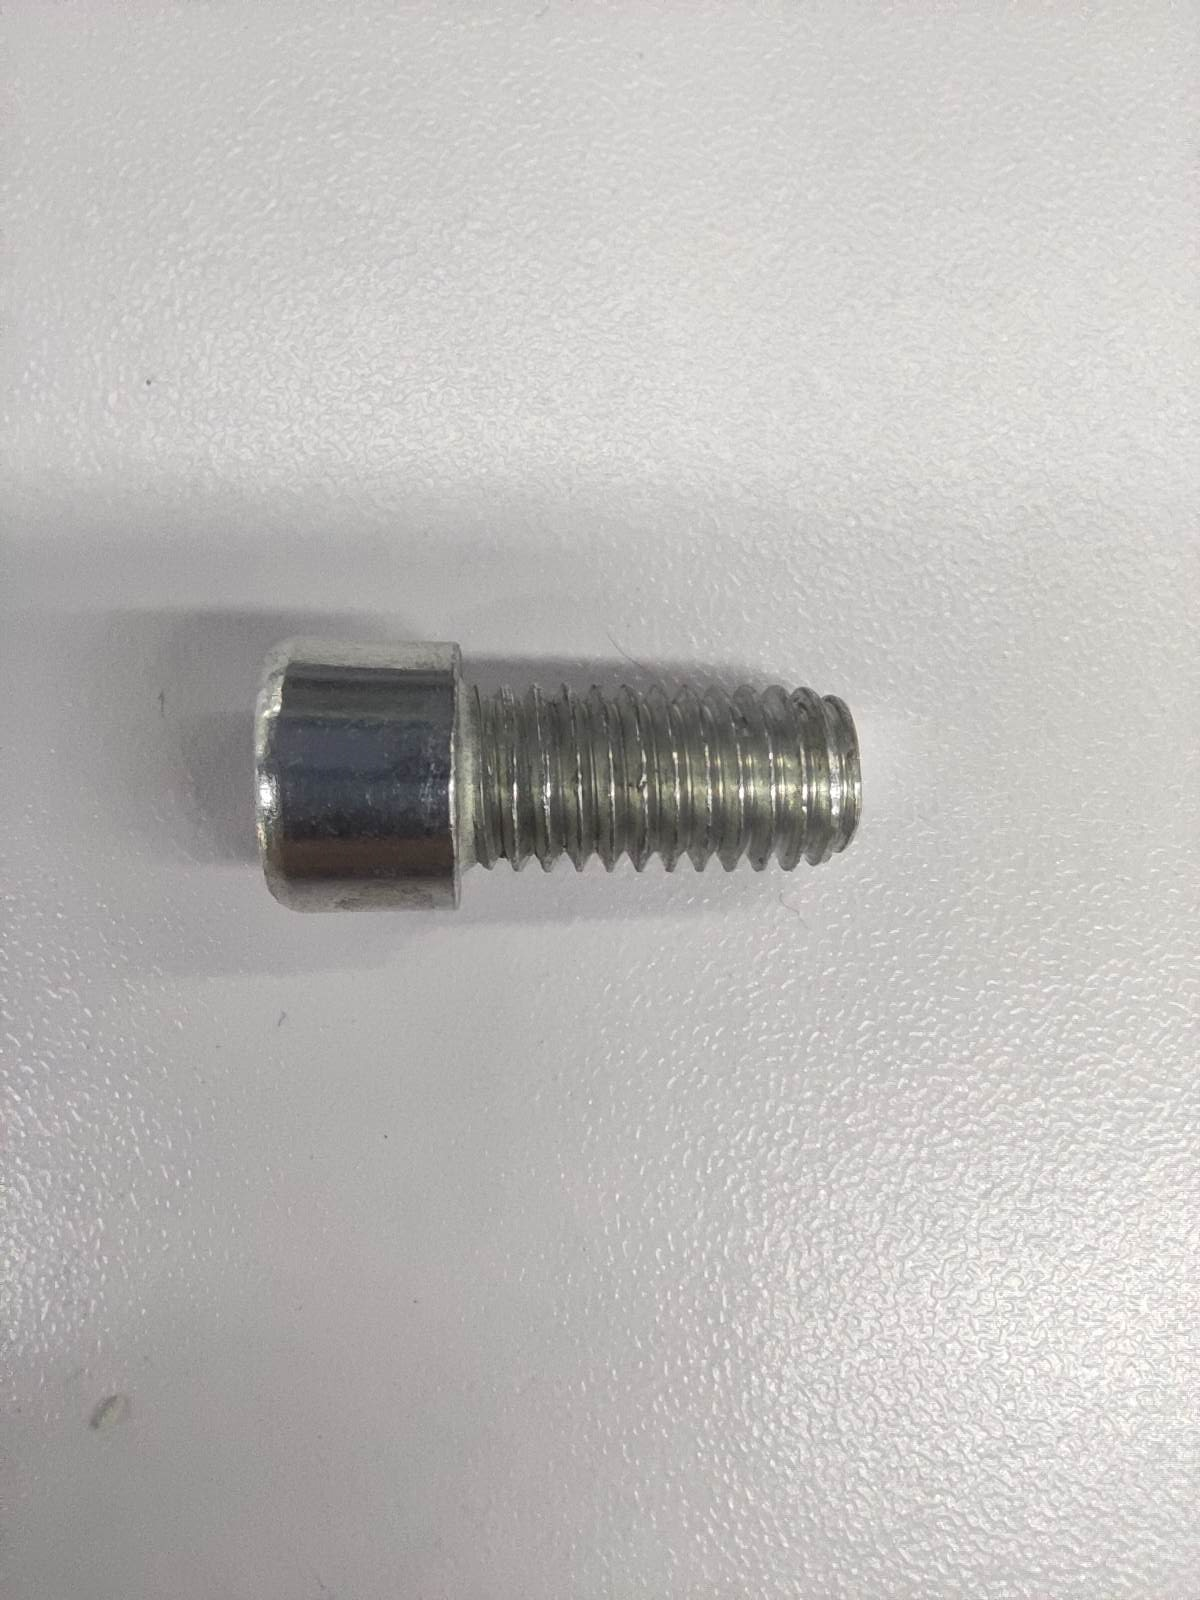螺钉银: (251, 639, 863, 913)
